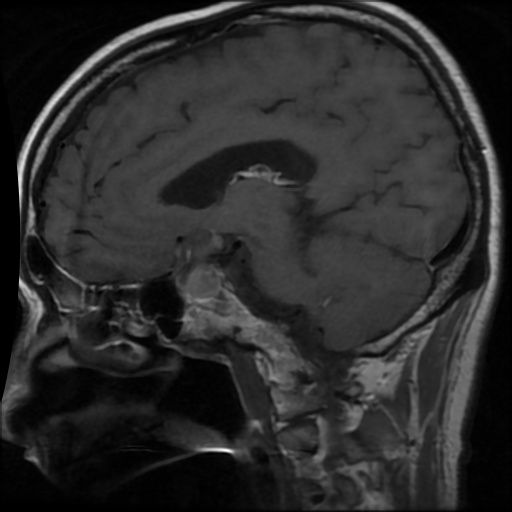pituitary: (177, 267, 224, 303)
